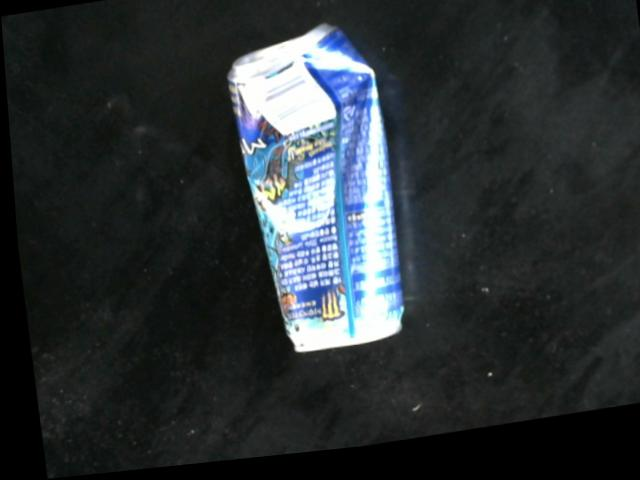can: (226, 15, 414, 369)
